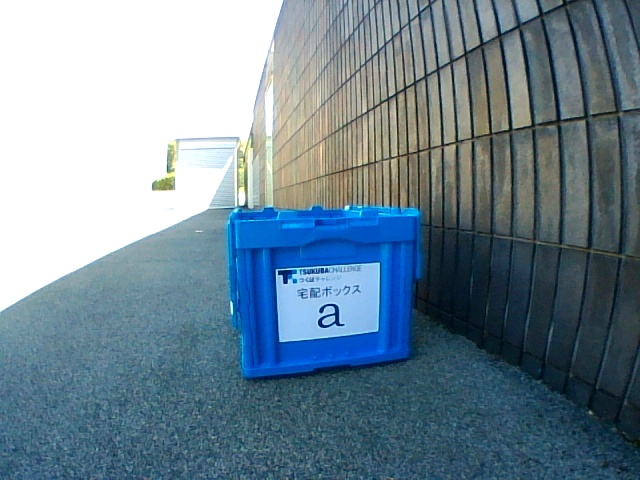blue_box: (228, 205, 421, 377)
tag_a: (284, 271, 376, 331)
